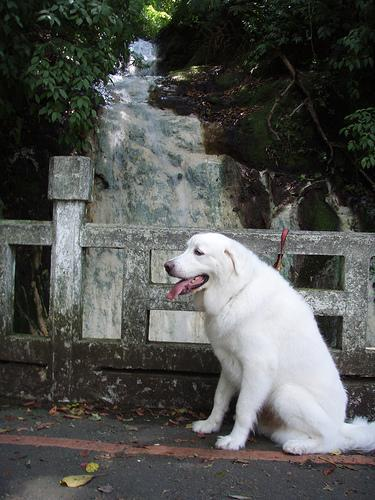Great_Pyrenees: (163, 232, 373, 456)
